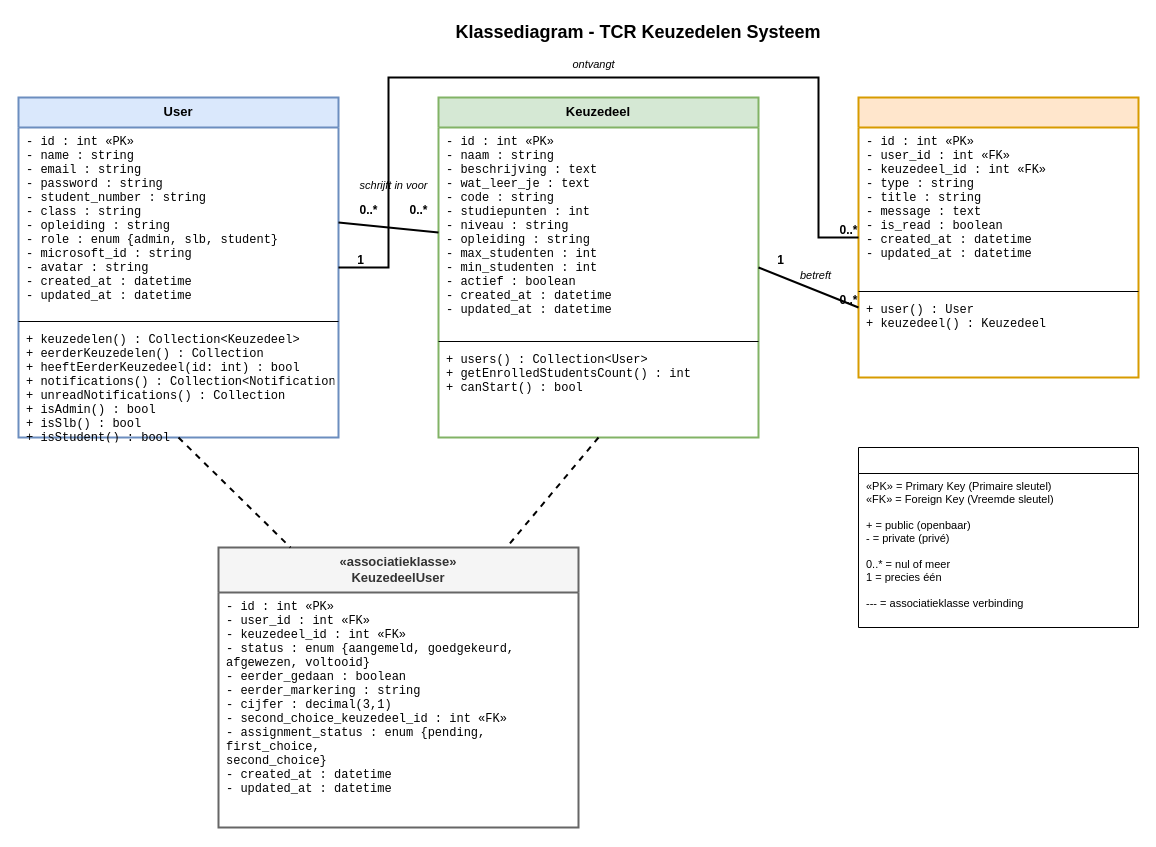
Image size: 1156x847. Some labels were removed from this diagram. Here are the shapes that lost their labels. From the top down, the box of each, then its label:
(857, 96, 1139, 378): Notification
(858, 446, 1138, 628): Legenda
